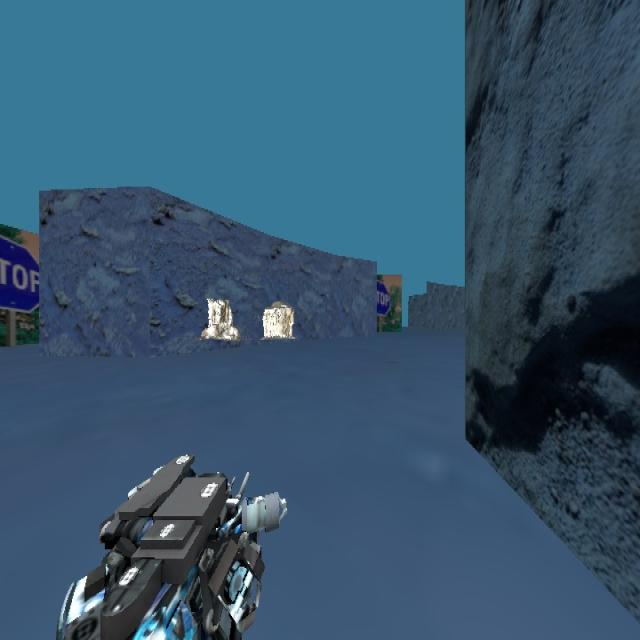Ice: (200, 287, 238, 358), (258, 296, 296, 346)
Stop_Sign: (0, 234, 39, 314), (376, 279, 391, 316)
